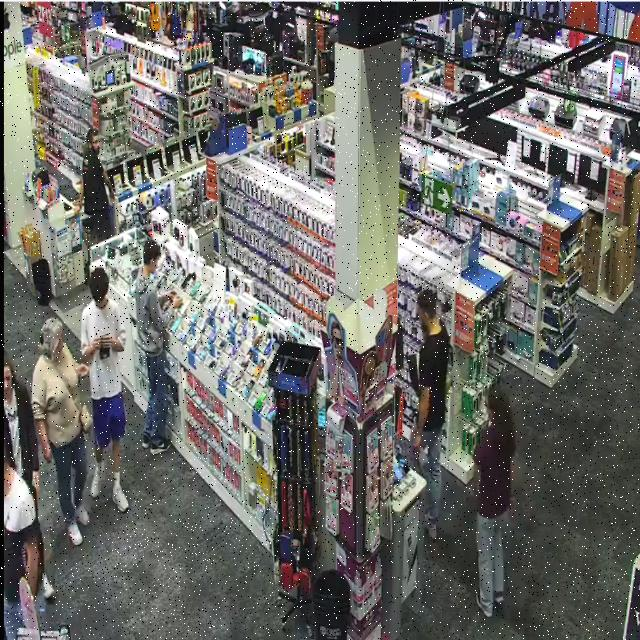article: (100, 347, 111, 360)
bags: (54, 366, 93, 433), (76, 399, 93, 433)
hands: (410, 427, 421, 454), (412, 435, 422, 454), (43, 442, 52, 463), (75, 364, 89, 377), (103, 336, 119, 347), (509, 496, 516, 520), (33, 471, 39, 498), (172, 295, 182, 309), (92, 338, 102, 351), (168, 290, 178, 299), (74, 203, 82, 213)
person: (32, 318, 89, 545), (81, 266, 129, 511), (135, 238, 182, 454), (410, 291, 450, 539), (473, 388, 515, 617), (3, 436, 43, 639), (4, 352, 39, 506), (76, 128, 113, 241), (43, 569, 54, 598)
